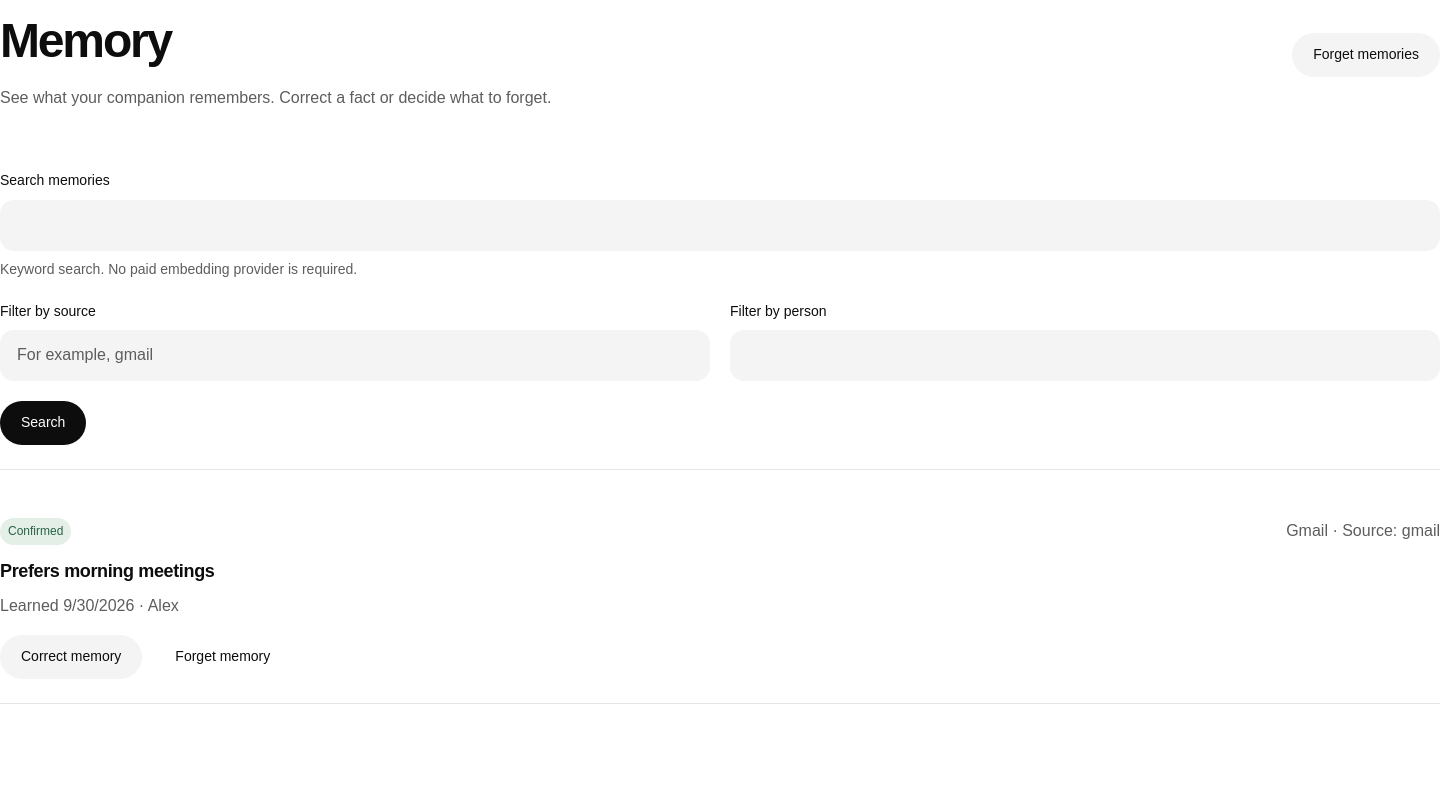
Test case: Memory screen › sends a reviewed time range as ISO timestamps
Expected: the heading "Prefers morning meetings" is shown, [0, 561, 214, 581]
Click the button "Forget memories": [1366, 55] box [1292, 33, 1439, 77]
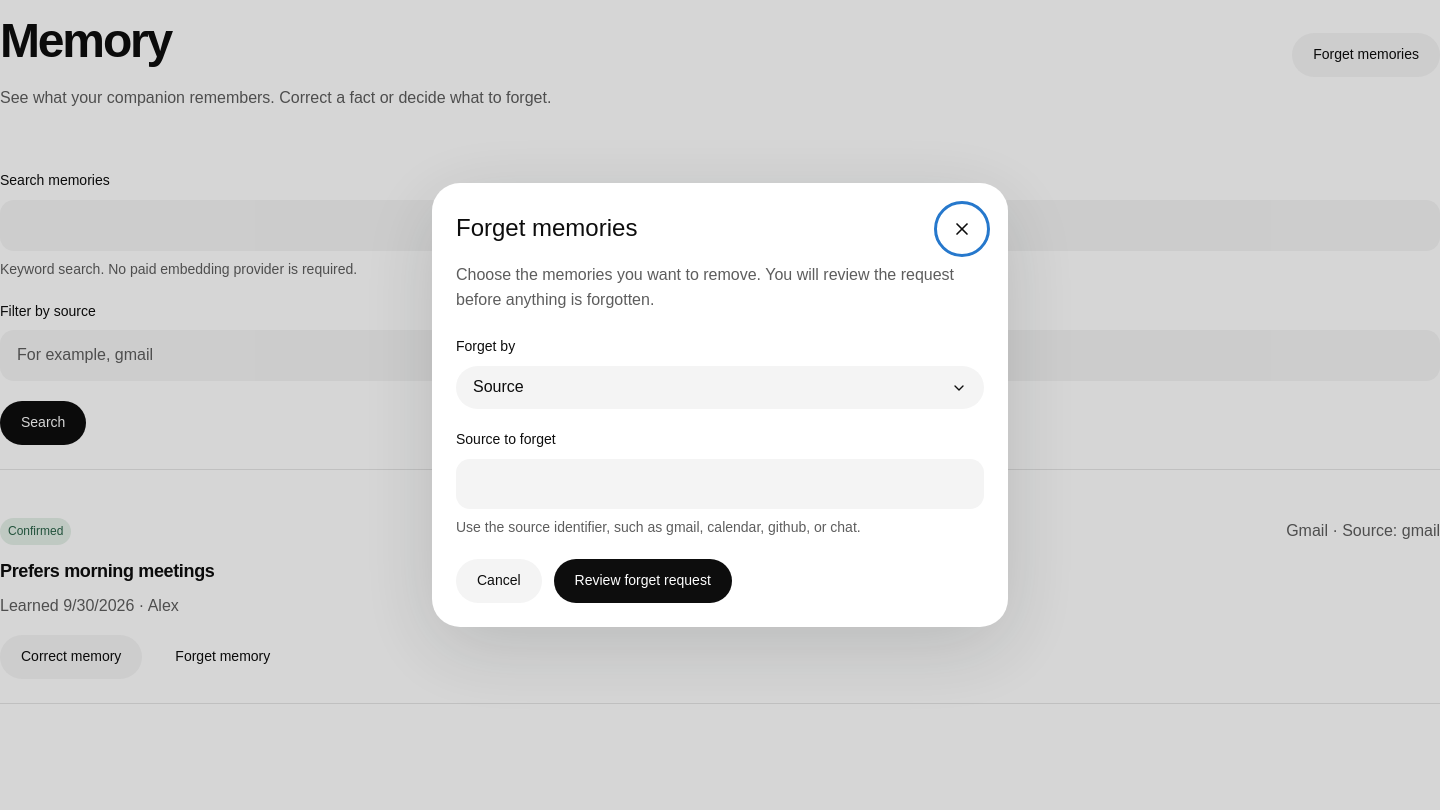
Click the dropdown named "Forget by": [498, 387] box [456, 366, 984, 409]
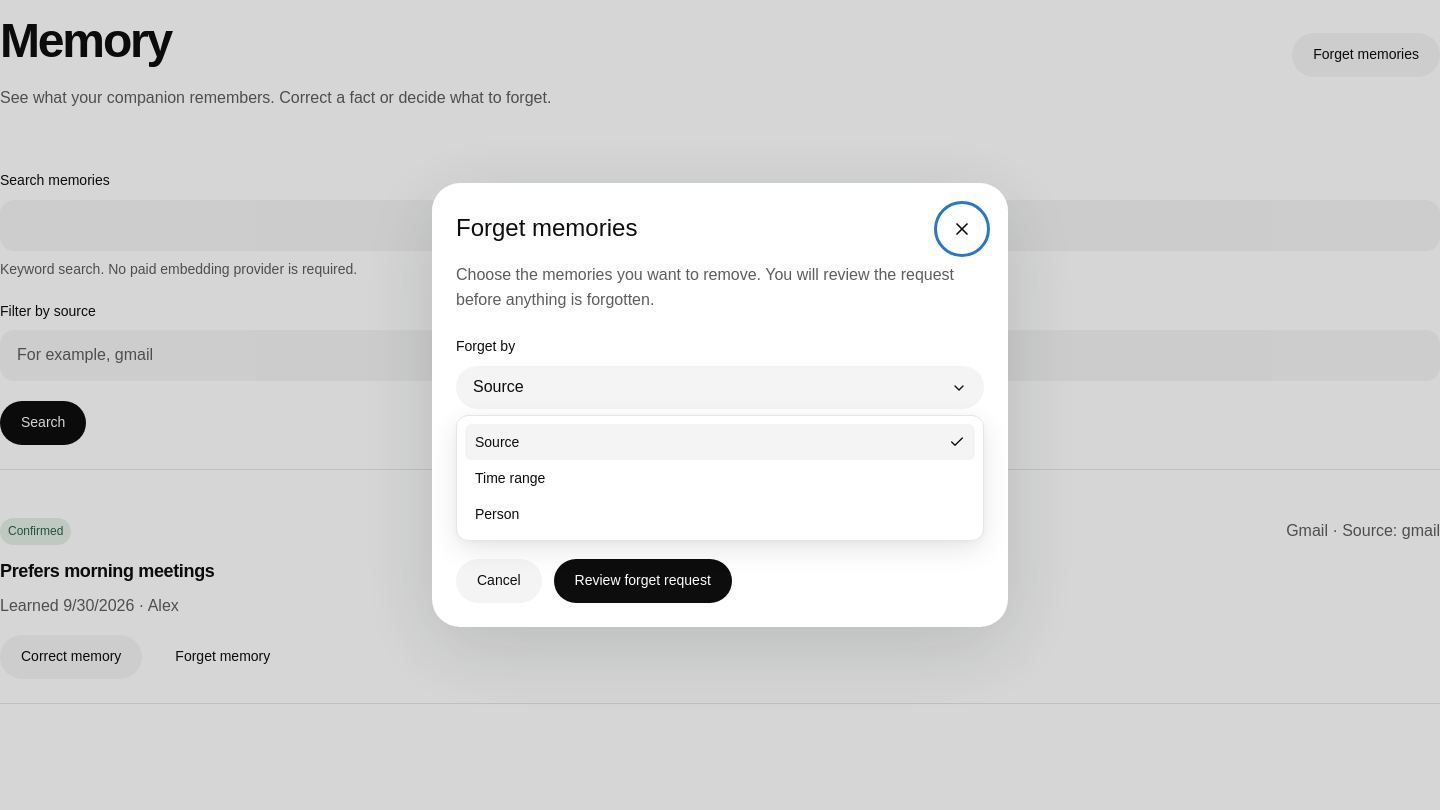
Click the option "Time range": [510, 478] box [475, 470, 545, 486]
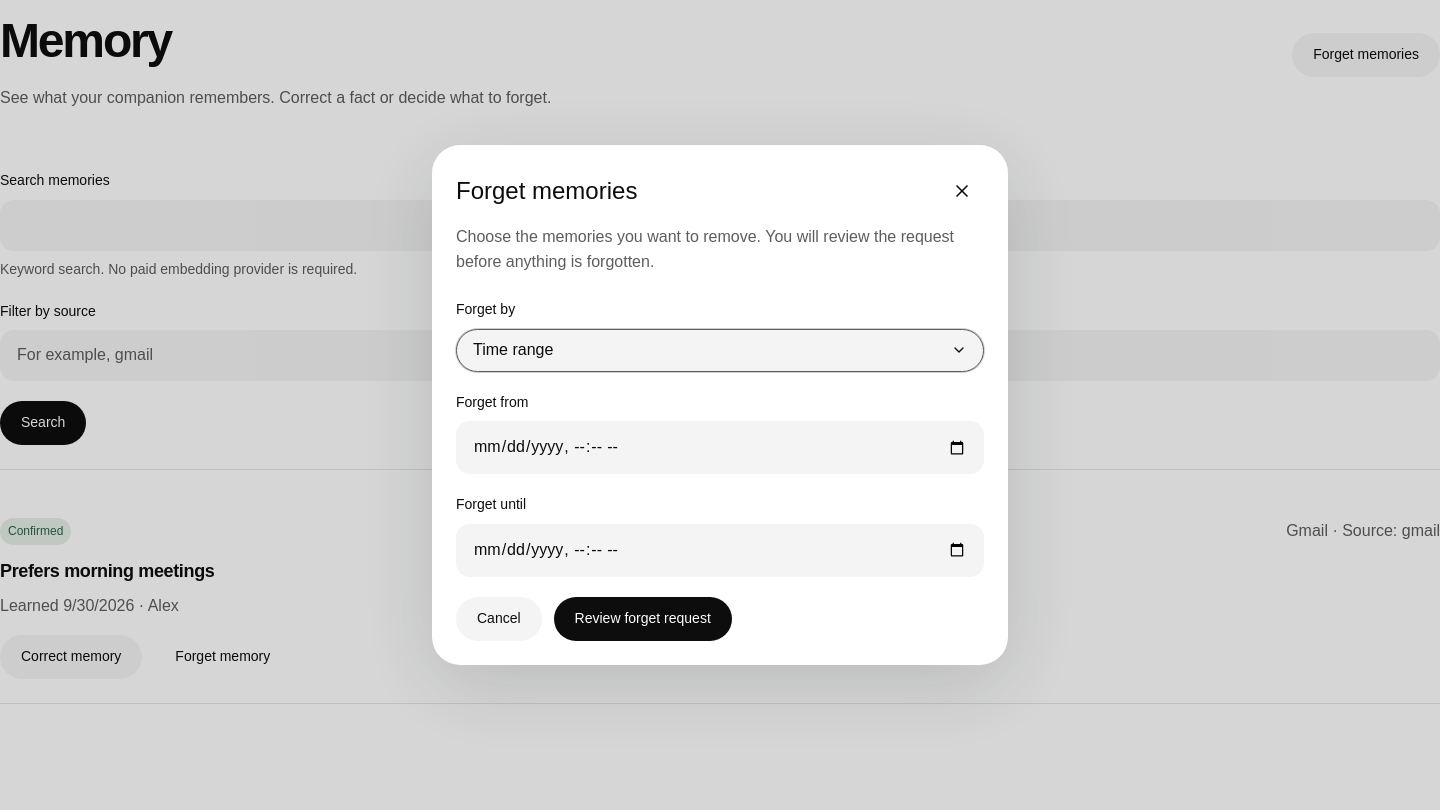
In the field labelled "Forget from": [720, 448] box [456, 421, 984, 474], type "2026-09-01T09:00"
In the field labelled "Forget until": [720, 550] box [456, 524, 984, 576], type "2026-09-30T09:00"
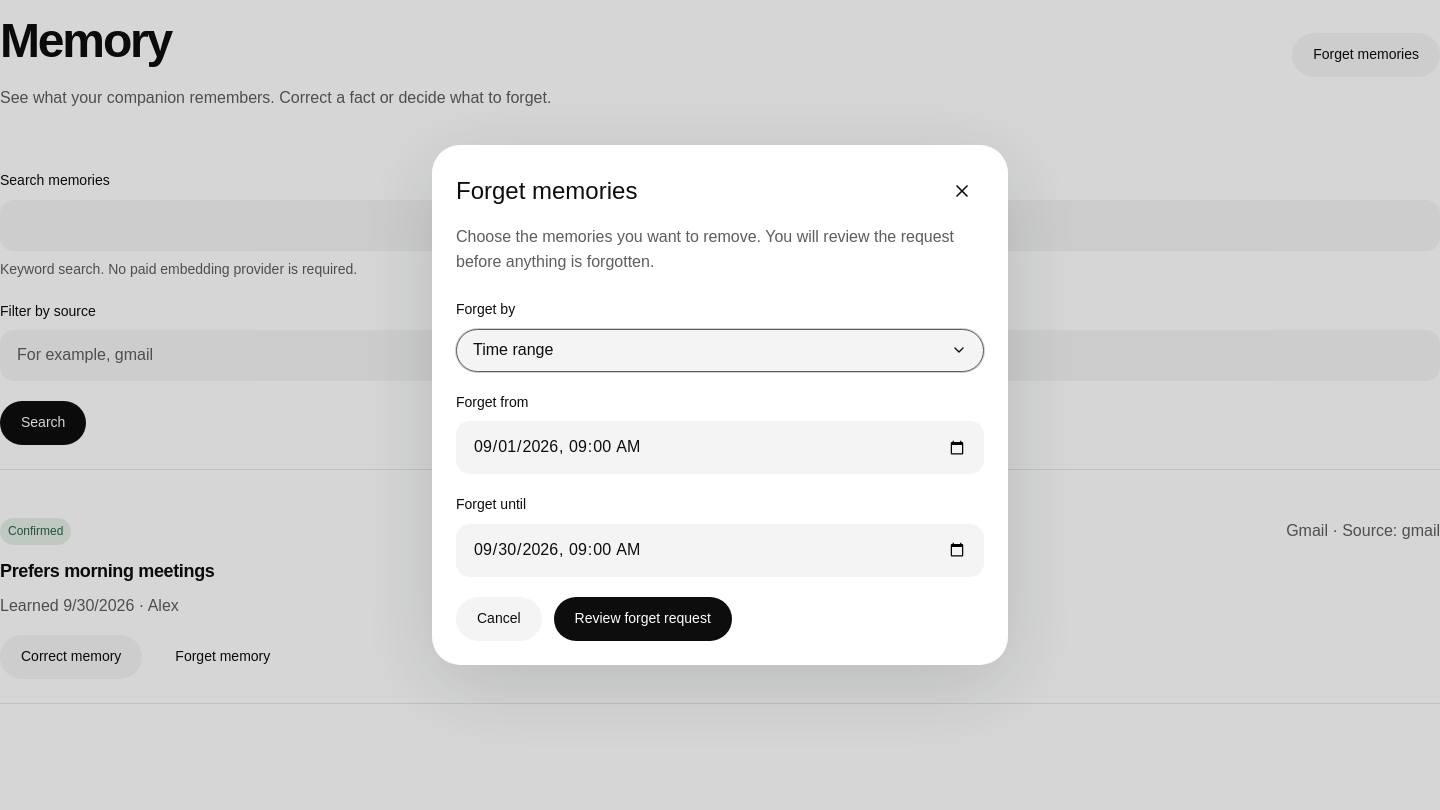
Click the button "Review forget request": [643, 618] box [554, 596, 732, 640]
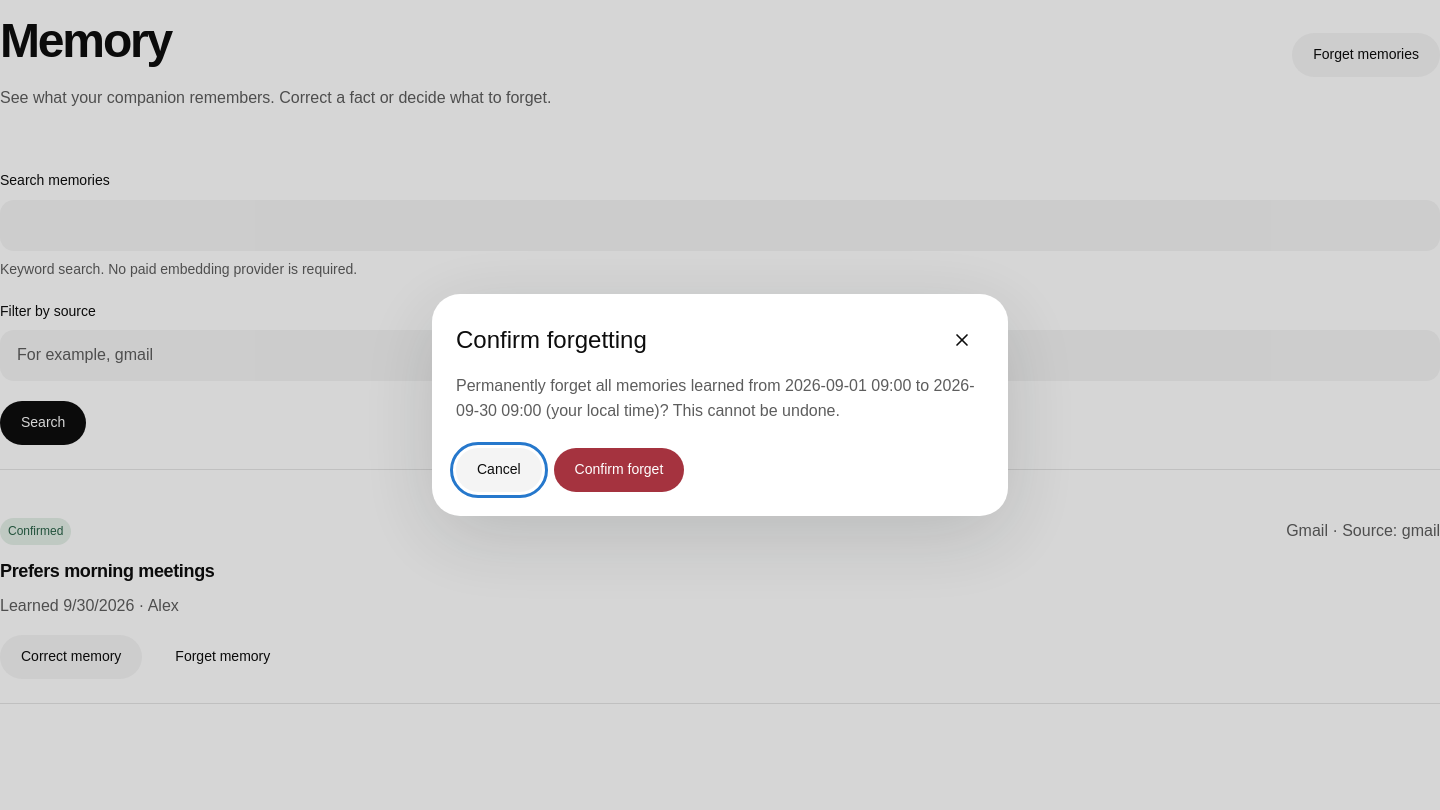
Click the button "Confirm forget": [619, 470] box [554, 448, 684, 492]
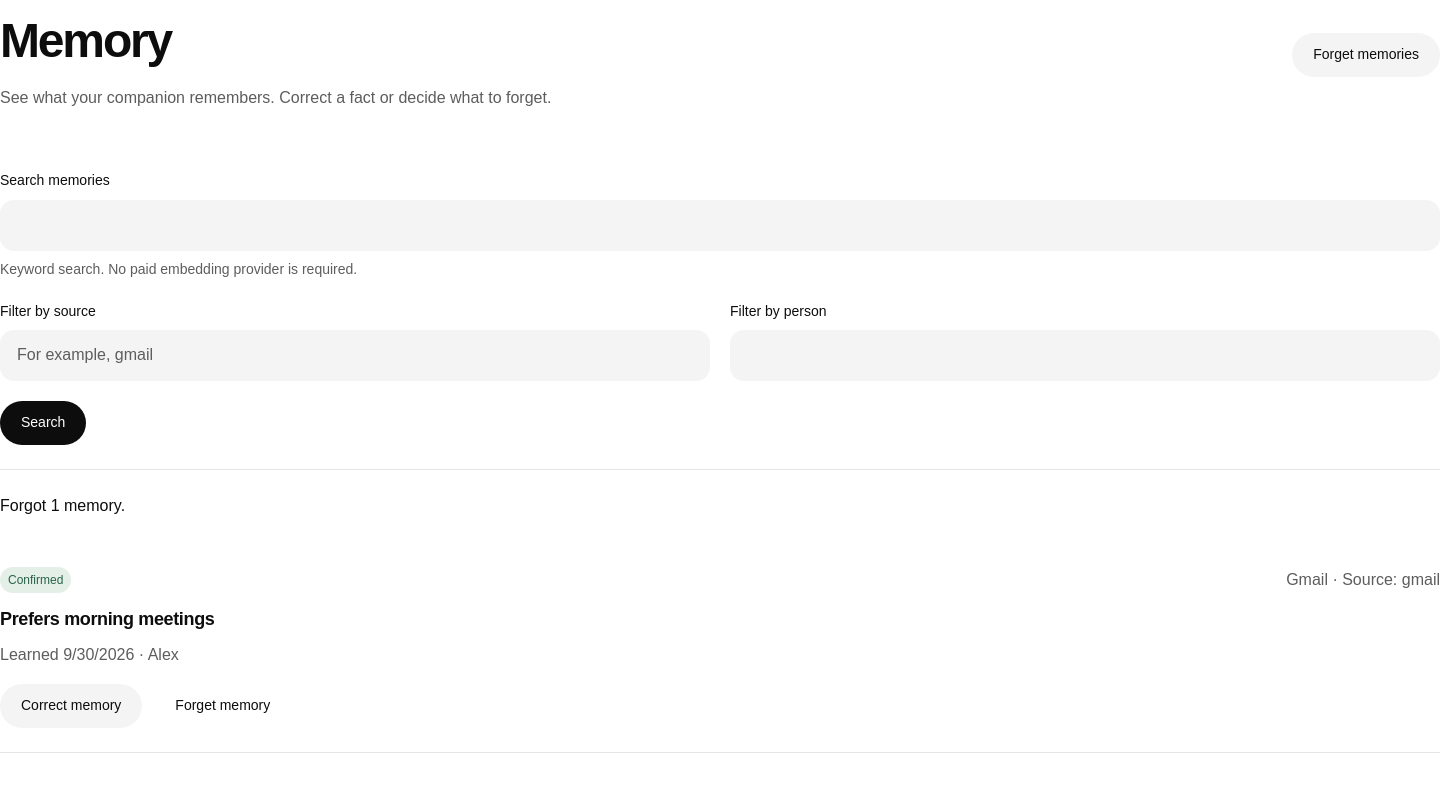
Expected: the text "Forgot 1 memory." is shown, [0, 497, 125, 514]
